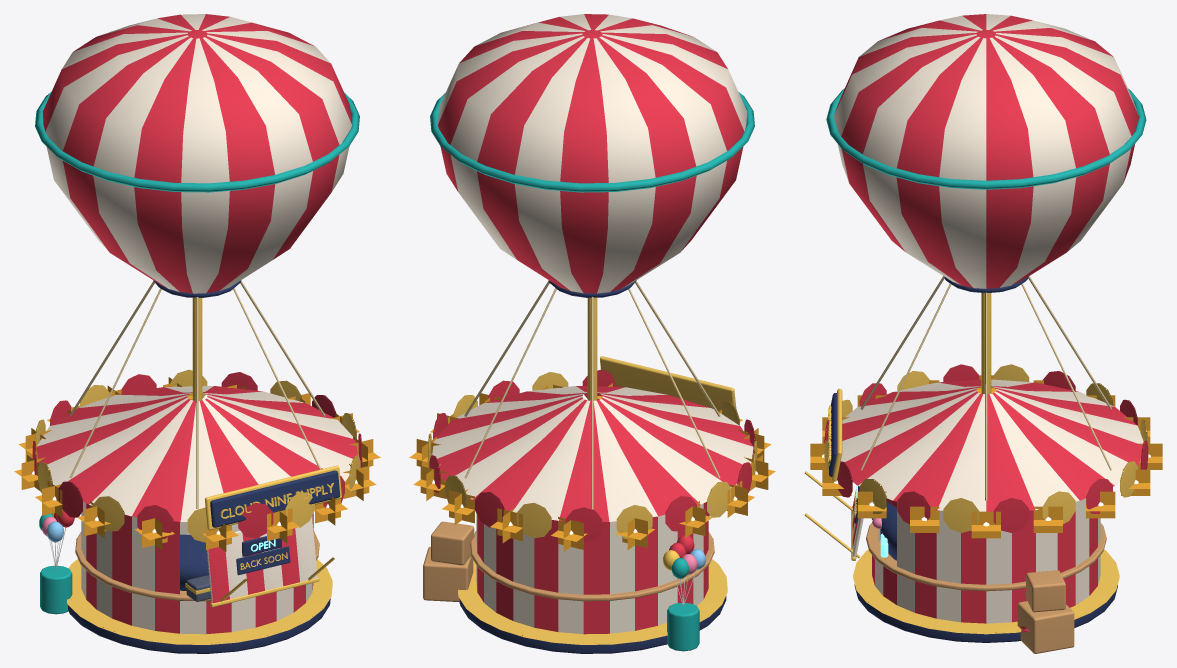
Rendered from sky_station.glb.
3 renders of one model, left to right at view 1: azimuth 30°, elevation 25°; view 2: azimuth 150°, elevation 25°; view 3: azimuth 270°, elevation 25°, orthographic.
Parts seen in each view (by area): view 1: Station, Shutter, ClosedSign, OpenDressing; view 2: Station; view 3: Station.
Part boxes in pixels (x1,y1,x2,y2): Station: (14,14,380,653); Shutter: (207,517,319,607); ClosedSign: (236,546,290,575); OpenDressing: (220,536,334,601); Station: (409,14,775,653); Station: (810,14,1162,653).
Size of the model in its own units: 7.09 by 12.3 by 7.2.
